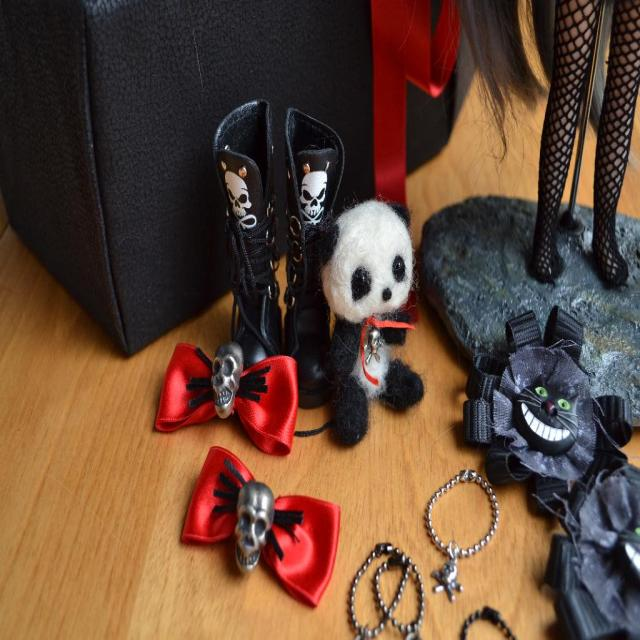panda: (324, 194, 428, 450)
